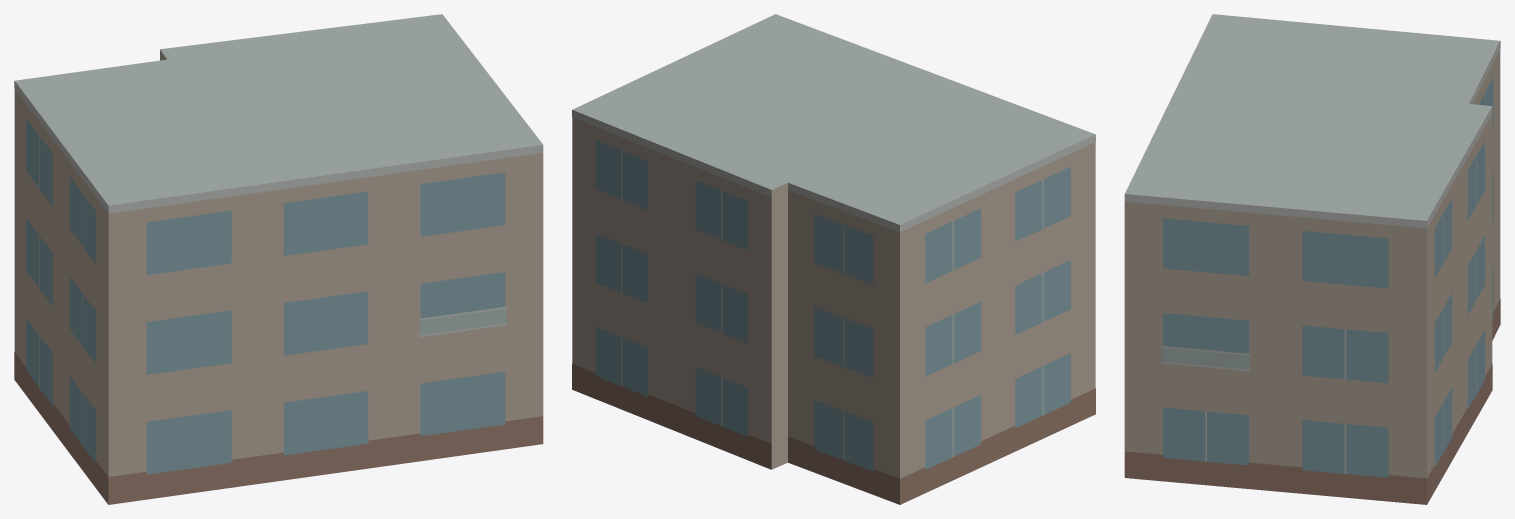
Rendered from survey-upis-32492655.glb.
3 views of the same model, side by side, from view 1: azimuth 30°, elevation 25°; view 2: azimuth 150°, elevation 25°; view 3: azimuth 270°, elevation 25° (orthographic). The views are drawn at different scales.
Parts seen in each view (by area): view 1: survey-upis-32492655.tmp; view 2: survey-upis-32492655.tmp; view 3: survey-upis-32492655.tmp.
Boxes of the visible parts, x1=… form: survey-upis-32492655.tmp: x1=14, y1=14, x2=543, y2=504; survey-upis-32492655.tmp: x1=572, y1=14, x2=1095, y2=504; survey-upis-32492655.tmp: x1=1124, y1=14, x2=1500, y2=504.
Size of the model in its own units: 14.31 by 9.15 by 10.98.
